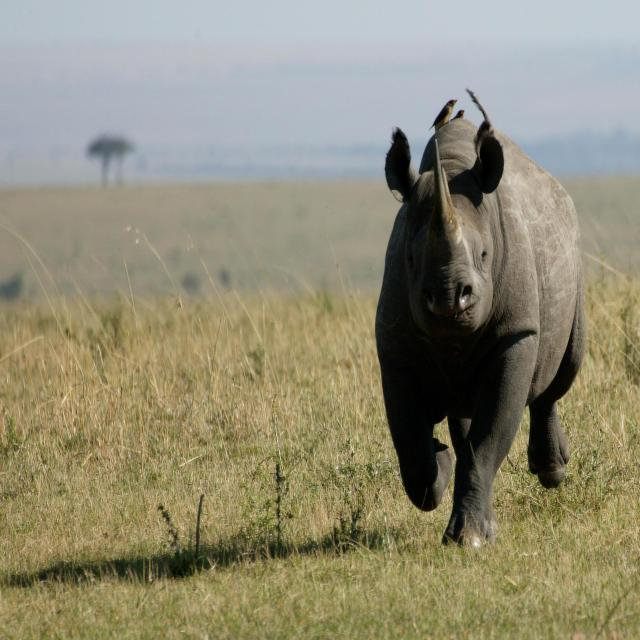rhinoceros: (376, 101, 586, 548)
